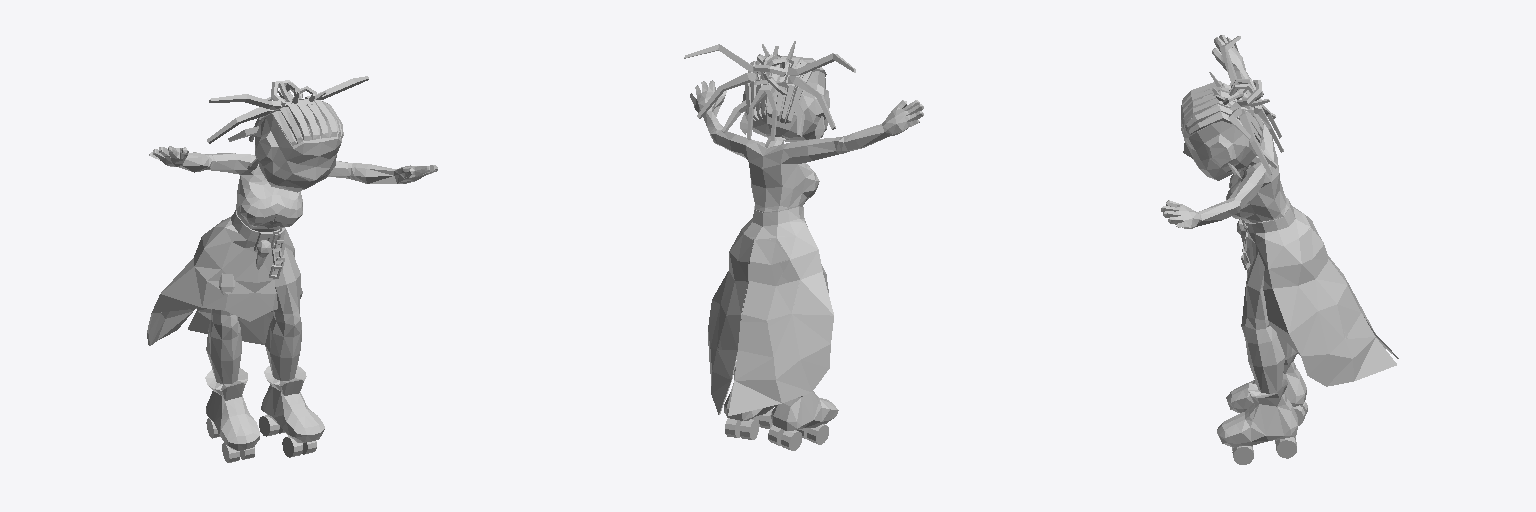
File: bruja_000122.obj
3 renders of one model, left to right at view 1: azimuth 30°, elevation 25°; view 2: azimuth 150°, elevation 25°; view 3: azimuth 270°, elevation 25°, orthographic.
Parts seen in each view (by area): view 1: Bruja_Plane.001; view 2: Bruja_Plane.001; view 3: Bruja_Plane.001.
Part boxes in pixels (x1,y1,x2,y2): Bruja_Plane.001: (147, 76, 437, 462); Bruja_Plane.001: (684, 41, 923, 450); Bruja_Plane.001: (1161, 35, 1398, 464).
Bounding box in the file's own units: 11.56 × 16.37 × 9.24.